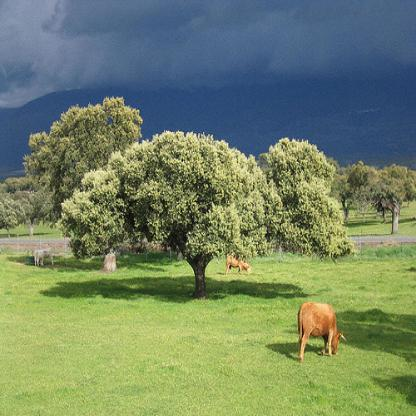cow: (297, 302, 345, 362), (224, 254, 252, 278), (32, 248, 54, 266)
